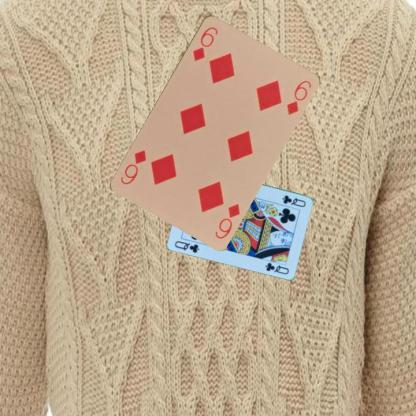6d: (212, 200, 242, 240), (190, 23, 219, 63)
Qc: (172, 238, 201, 254), (280, 192, 308, 208)
